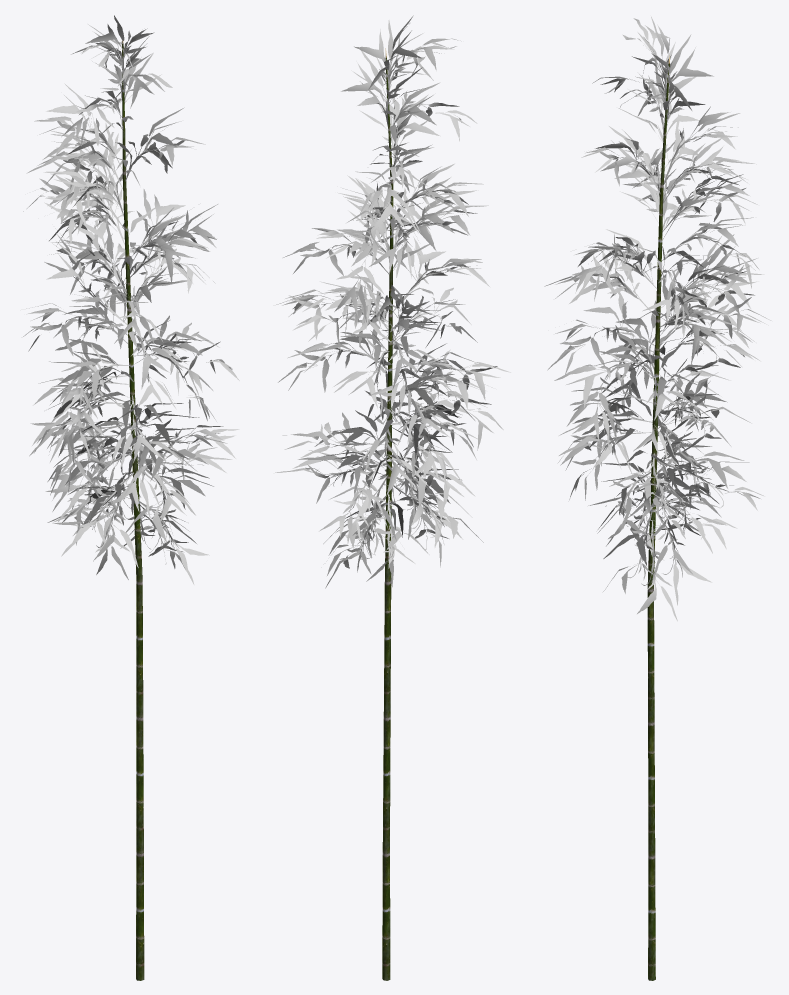
File: Bamboo_Med.fbx
3 renders of one model, left to right at view 1: azimuth 30°, elevation 25°; view 2: azimuth 150°, elevation 25°; view 3: azimuth 270°, elevation 25°, orthographic. The views are drawn at different scales.
Parts seen in each view (by area): view 1: Bamboo_Med; view 2: Bamboo_Med; view 3: Bamboo_Med.
Boxes of the visible parts, <box> form: Bamboo_Med: <box>23,15,239,980</box>; Bamboo_Med: <box>275,15,510,980</box>; Bamboo_Med: <box>544,16,771,980</box>.
Size of the model in its own units: 181 by 810 by 180.
